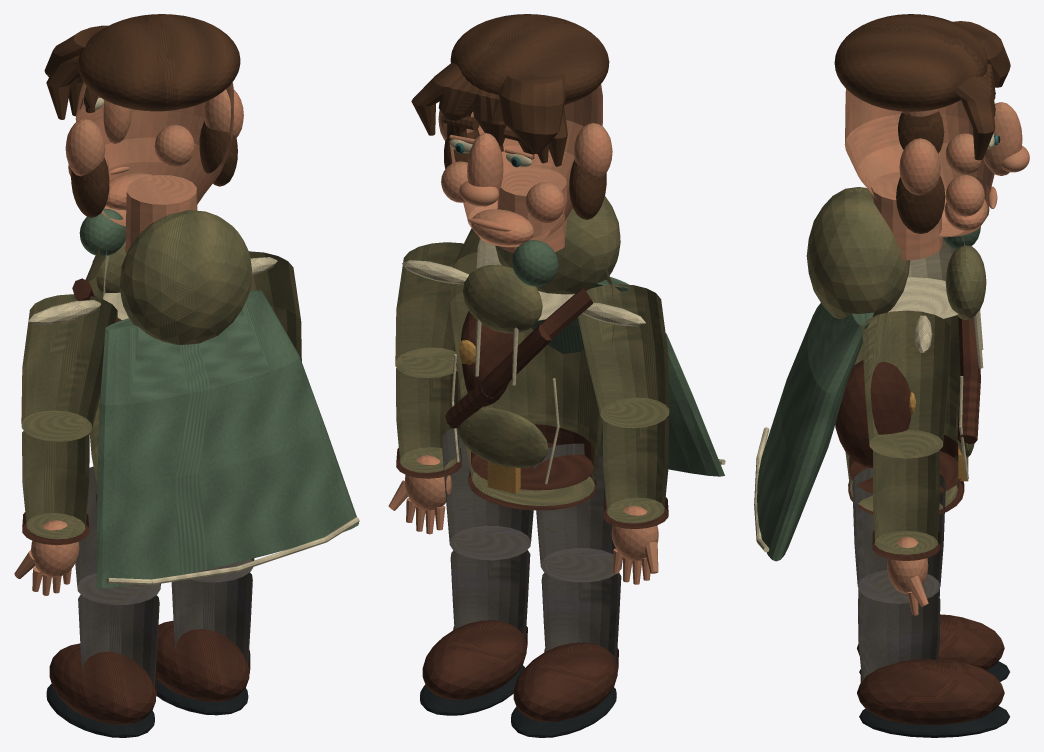
File: windfall-companion-d.glb
3 views of the same model, side by side, from view 1: azimuth 30°, elevation 25°; view 2: azimuth 150°, elevation 25°; view 3: azimuth 270°, elevation 25° (orthographic). The views are drawn at different scales.
Visible parts, largest first — view 1: cape-surface-scarf, head-surface-hair, body-surface-coat, head-surface-skin, arm-L-surface-coat, forearm-L-surface-coat, foot-L-surface-leather, foot-R-surface-leather, shin-L-surface-pants, shin-R-surface-pants, neck-surface-skin, leg-L-surface-pants (+9 smaller); view 2: body-surface-coat, head-surface-hair, head-surface-skin, arm-L-surface-coat, body-surface-leather, arm-R-surface-coat, foot-L-surface-leather, foot-R-surface-leather, leg-L-surface-pants, forearm-L-surface-coat, leg-R-surface-pants, shin-L-surface-pants (+14 smaller); view 3: head-surface-hair, body-surface-coat, head-surface-skin, cape-surface-scarf, body-surface-leather, arm-R-surface-coat, foot-R-surface-leather, forearm-R-surface-coat, shin-R-surface-pants, leg-R-surface-pants, body-surface-linen, foot-L-surface-leather (+6 smaller).
Boxes of the visible parts, left/top/right/bottom form: cape-surface-scarf: left=96, top=290, right=358, bottom=587; head-surface-hair: left=44, top=14, right=240, bottom=217; body-surface-coat: left=77, top=210, right=251, bottom=485; head-surface-skin: left=65, top=82, right=243, bottom=226; arm-L-surface-coat: left=21, top=294, right=117, bottom=441; forearm-L-surface-coat: left=22, top=431, right=89, bottom=539; foot-L-surface-leather: left=49, top=643, right=155, bottom=724; foot-R-surface-leather: left=156, top=620, right=249, bottom=701; shin-L-surface-pants: left=78, top=594, right=159, bottom=690; shin-R-surface-pants: left=171, top=572, right=252, bottom=666; neck-surface-skin: left=125, top=175, right=197, bottom=253; leg-L-surface-pants: left=69, top=465, right=160, bottom=605; body-surface-coat: left=450, top=196, right=620, bottom=505; head-surface-hair: left=411, top=14, right=609, bottom=219; head-surface-skin: left=438, top=84, right=612, bottom=247; arm-L-surface-coat: left=577, top=284, right=669, bottom=428; body-surface-leather: left=445, top=287, right=596, bottom=510; arm-R-surface-coat: left=395, top=242, right=463, bottom=378; foot-L-surface-leather: left=513, top=642, right=617, bottom=721; foot-R-surface-leather: left=422, top=620, right=526, bottom=699; leg-L-surface-pants: left=533, top=443, right=622, bottom=582; forearm-L-surface-coat: left=602, top=417, right=668, bottom=523; leg-R-surface-pants: left=441, top=428, right=533, bottom=560; shin-L-surface-pants: left=541, top=573, right=621, bottom=662; head-surface-hair: left=834, top=14, right=1010, bottom=233; body-surface-coat: left=806, top=187, right=986, bottom=511; head-surface-skin: left=844, top=89, right=1029, bottom=237; cape-surface-scarf: left=757, top=303, right=873, bottom=561; body-surface-leather: left=835, top=317, right=980, bottom=514; arm-R-surface-coat: left=862, top=310, right=950, bottom=458; foot-R-surface-leather: left=857, top=658, right=1004, bottom=724; forearm-R-surface-coat: left=873, top=450, right=939, bottom=554; shin-R-surface-pants: left=858, top=593, right=940, bottom=681; leg-R-surface-pants: left=852, top=467, right=945, bottom=603; body-surface-linen: left=888, top=236, right=983, bottom=479; foot-L-surface-leather: left=857, top=614, right=1004, bottom=670.
Size of the model in its own units: 0.7024 by 1.67 by 0.6183.
10 materials, 10 textured.
